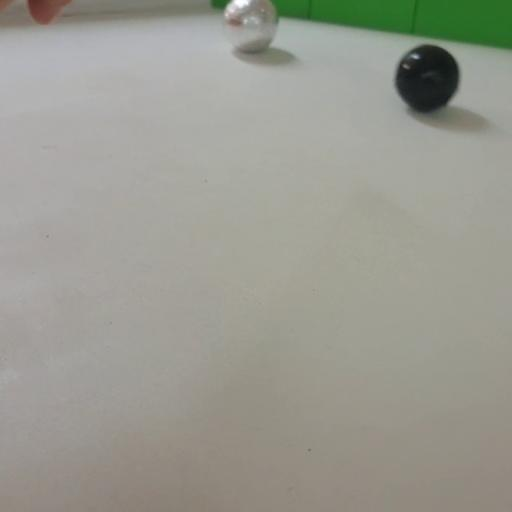alive: (223, 0, 279, 52)
dead: (394, 45, 458, 112)
